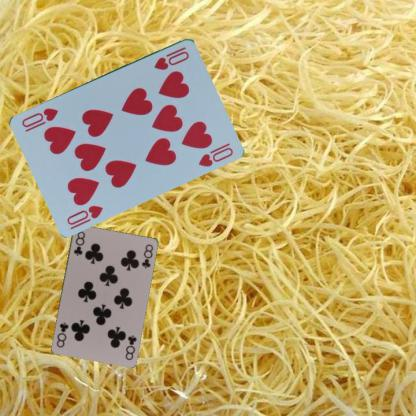10h: (151, 43, 191, 71), (64, 202, 105, 227)
8c: (122, 332, 138, 361), (71, 229, 86, 257)
